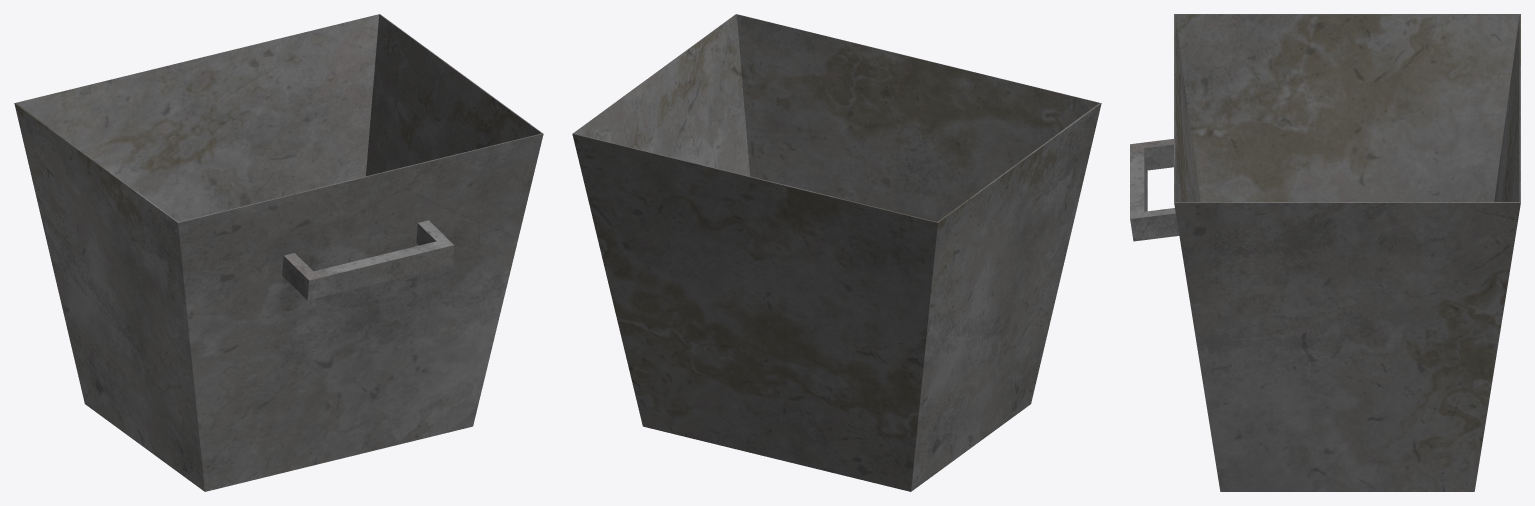
File: COVER BATH CONTAINER.fbx
3 views of the same model, side by side, from view 1: azimuth 30°, elevation 25°; view 2: azimuth 150°, elevation 25°; view 3: azimuth 270°, elevation 25° (orthographic). The views are drawn at different scales.
Visible parts, largest first — view 1: Cube.007; view 2: Cube.007; view 3: Cube.007.
Boxes of the visible parts, <box> form: Cube.007: <box>14,14,543,491</box>; Cube.007: <box>572,14,1101,491</box>; Cube.007: <box>1130,14,1520,491</box>.
Bounding box in the file's own units: 47.15 × 36.62 × 41.23.
1 material, 1 textured.
